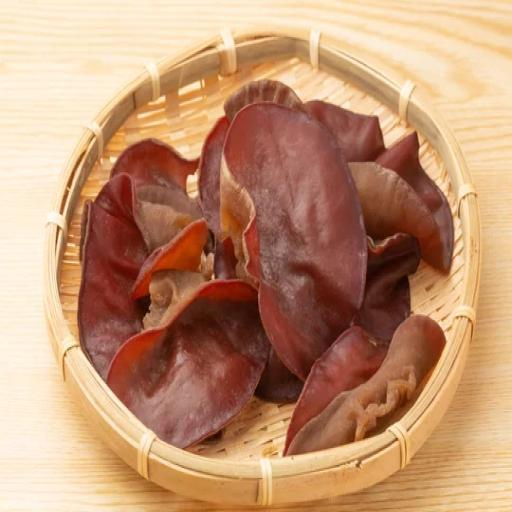mushroom: (217, 99, 376, 374), (106, 272, 283, 454), (70, 137, 214, 342), (276, 317, 453, 460), (345, 118, 464, 281)
